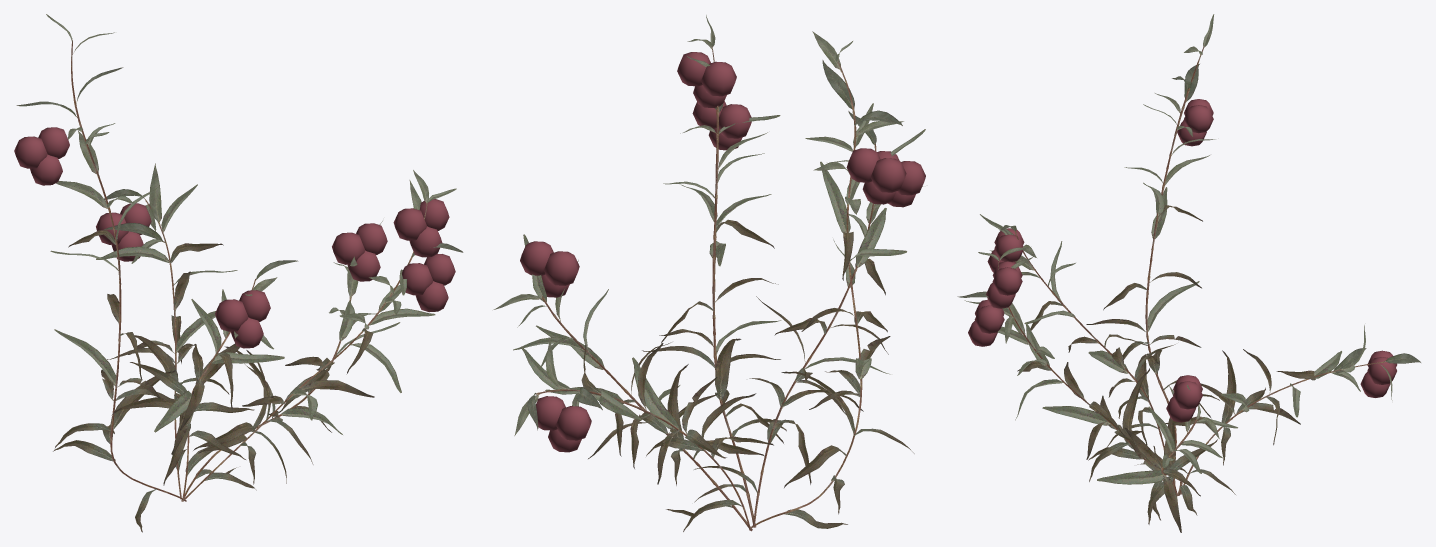
Rendered from natural-berry-bush-weathered.glb.
The picture shows the model from 3 angles, left to right: view 1: azimuth 30°, elevation 25°; view 2: azimuth 150°, elevation 25°; view 3: azimuth 270°, elevation 25°; orthographic projection. The views are drawn at different scales.
Visible parts, largest first — view 1: natural-berry-bush-weathered runtime mesh; view 2: natural-berry-bush-weathered runtime mesh; view 3: natural-berry-bush-weathered runtime mesh.
Boxes of the visible parts, x1=… form: natural-berry-bush-weathered runtime mesh: x1=14, y1=14, x2=463, y2=532; natural-berry-bush-weathered runtime mesh: x1=493, y1=15, x2=925, y2=531; natural-berry-bush-weathered runtime mesh: x1=957, y1=14, x2=1420, y2=532.
Bounding box in the file's own units: 0.8165 × 1.05 × 1.02.
Materials: 2 (1 with a texture image).
